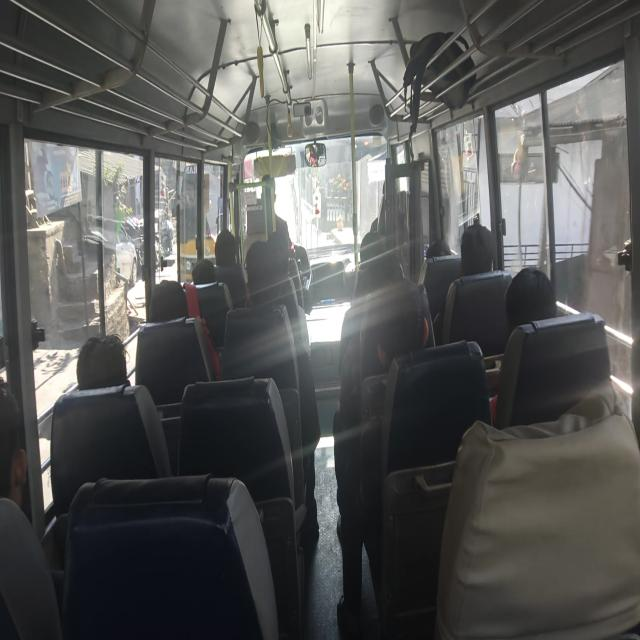person: (0, 384, 37, 577), (500, 259, 582, 336), (360, 288, 431, 368), (78, 331, 132, 409), (246, 238, 279, 303), (456, 220, 488, 277), (147, 276, 183, 322), (191, 251, 226, 297), (431, 230, 464, 272), (212, 219, 240, 259), (374, 261, 402, 300), (265, 235, 291, 273), (364, 236, 399, 257)
